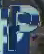Parking: (5, 3, 39, 51)
